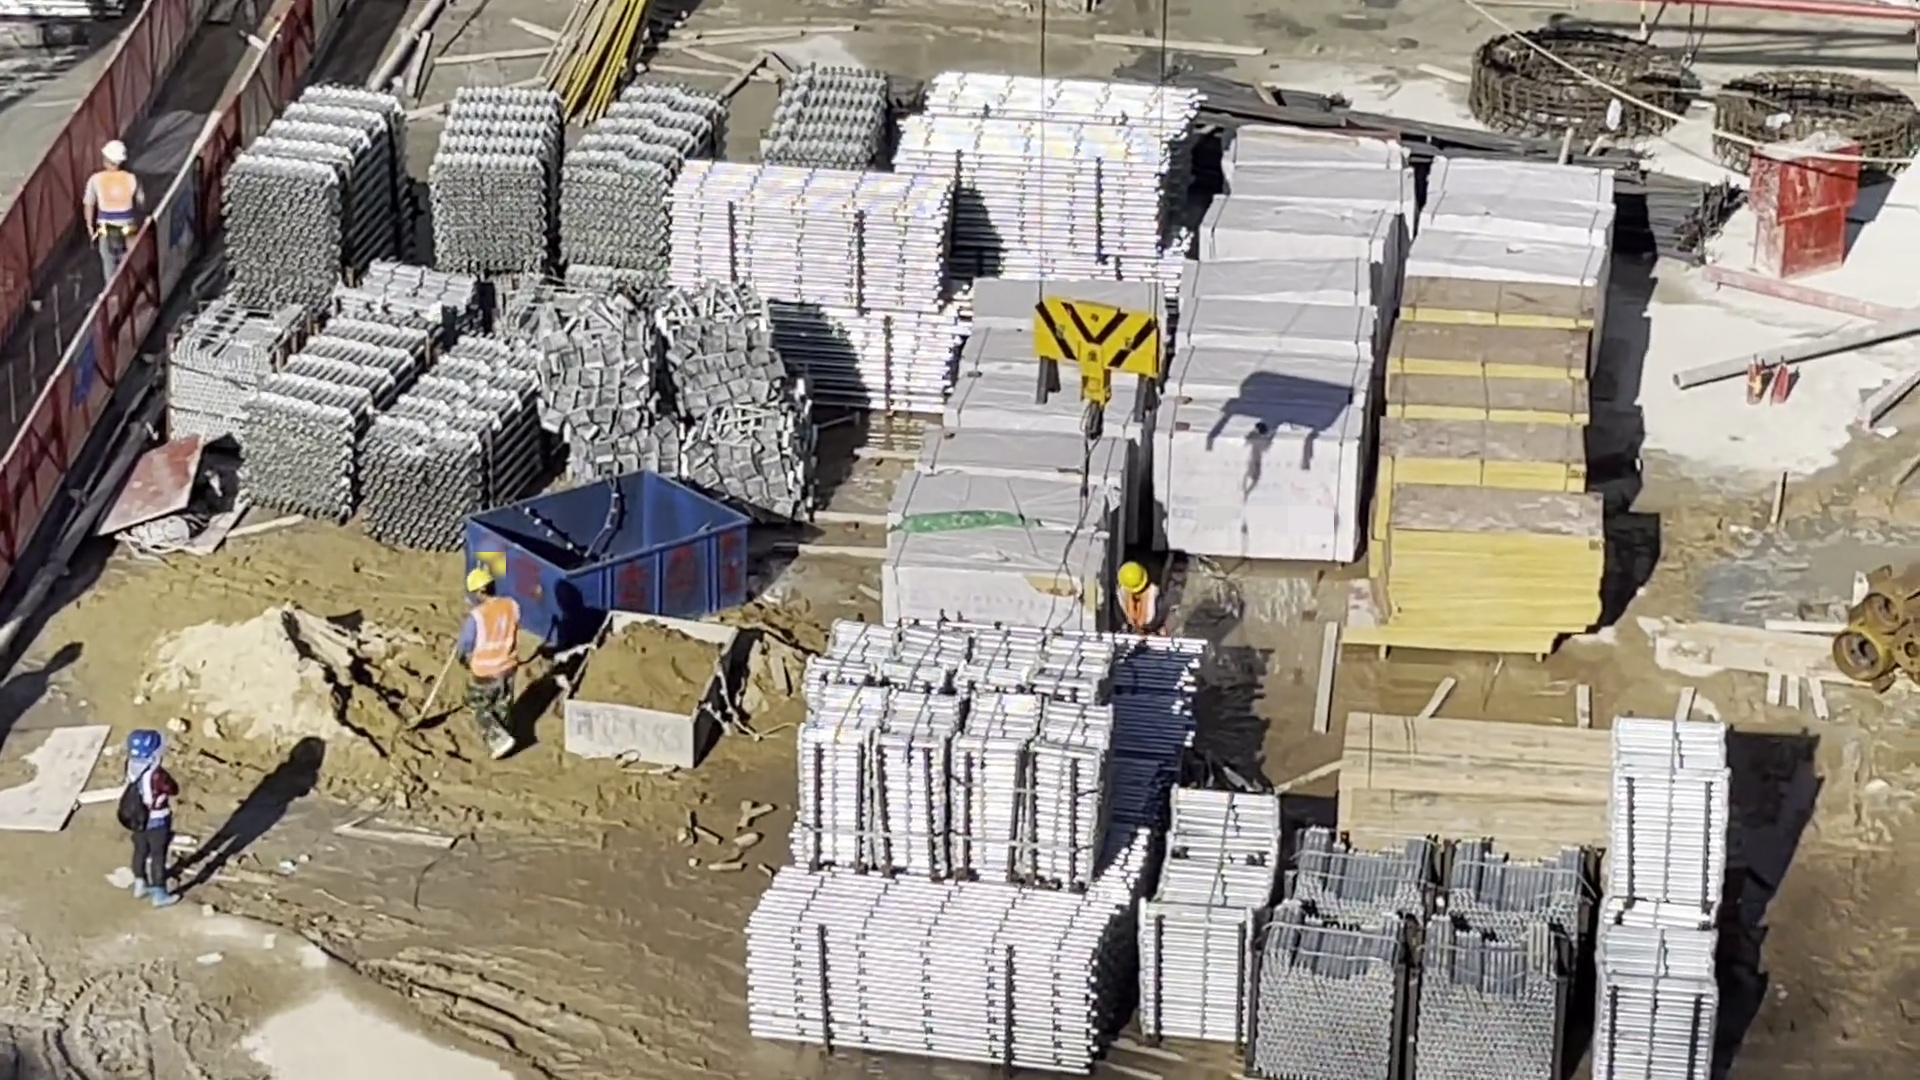fence: (1, 1, 300, 560)
helmet: (1108, 543, 1158, 601), (448, 549, 498, 601), (126, 720, 168, 769), (101, 115, 132, 171)
hook: (1027, 290, 1181, 449)
hopper: (476, 433, 744, 614), (558, 594, 733, 742)
person: (447, 565, 536, 785), (104, 726, 205, 919), (79, 139, 155, 275), (1109, 547, 1165, 650)
scaffold: (723, 611, 1263, 1065), (643, 45, 946, 421), (1288, 820, 1605, 1079), (1589, 716, 1745, 1080), (285, 288, 510, 505), (435, 74, 700, 259), (939, 73, 1178, 272), (278, 63, 418, 281)
vest: (468, 602, 519, 671), (93, 174, 138, 228), (1117, 589, 1157, 625)
